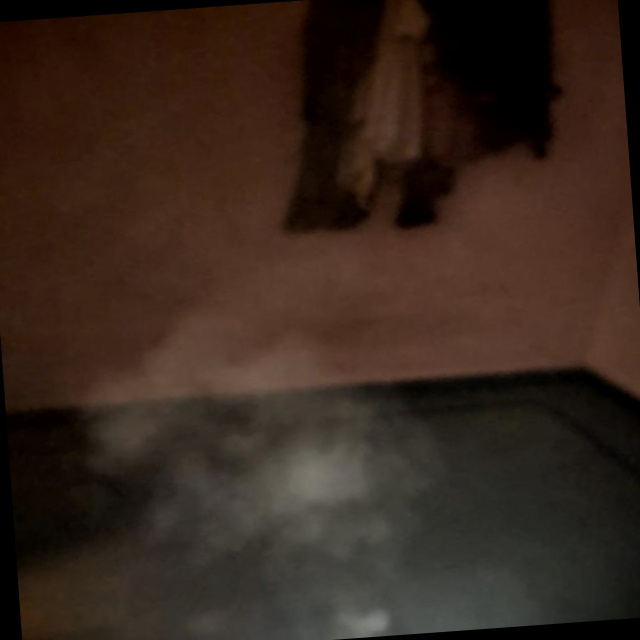smoke: (171, 319, 398, 539)
